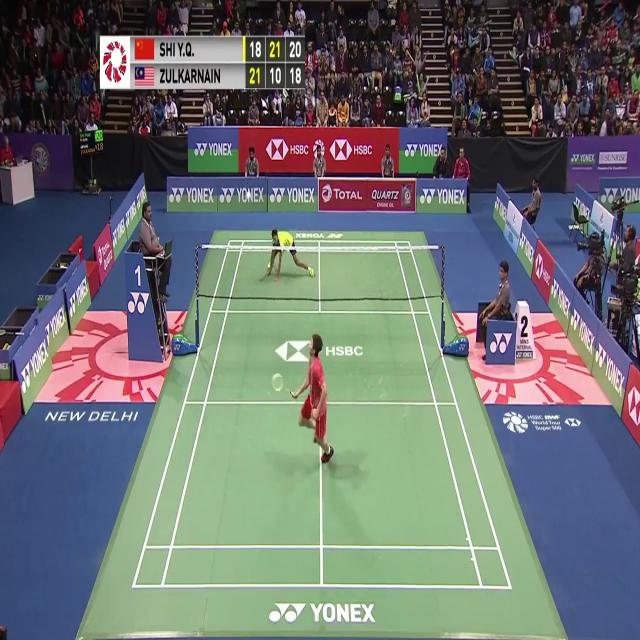Shuttlecock: (245, 190, 251, 201)
